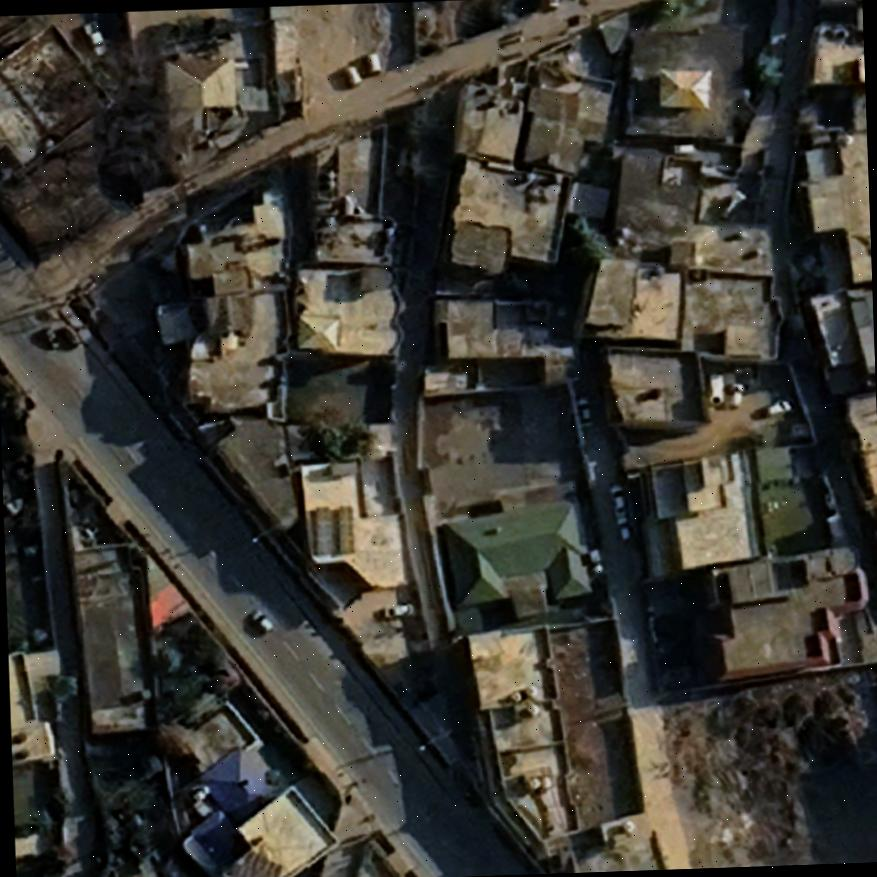Solarpanel: (306, 502, 356, 562)
